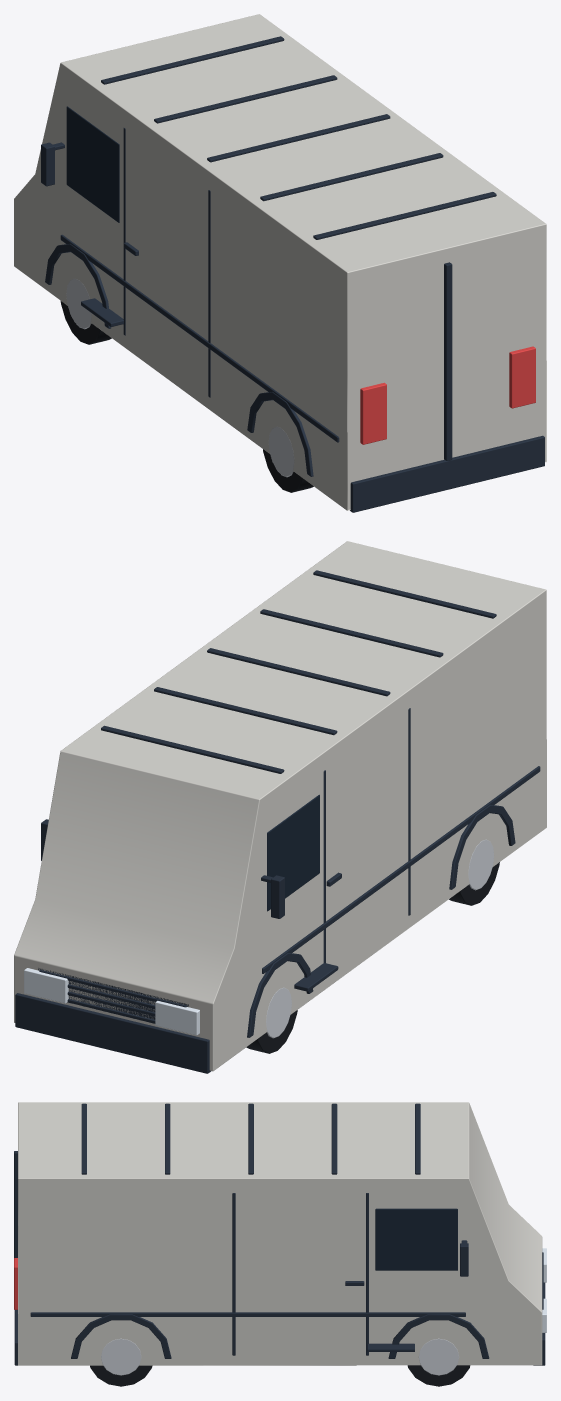
The model's file is veh_truck_panel_01.glb.
3 renders of one model, top to bottom at view 1: azimuth 30°, elevation 25°; view 2: azimuth 150°, elevation 25°; view 3: azimuth 270°, elevation 25°, orthographic. The views are drawn at different scales.
Parts seen in each view (by area): view 1: VEH_TRUCK_PANEL_01_ROOT; view 2: VEH_TRUCK_PANEL_01_ROOT; view 3: VEH_TRUCK_PANEL_01_ROOT.
Part boxes in pixels (left/top/right/bottom): VEH_TRUCK_PANEL_01_ROOT: left=14, top=14, right=546, bottom=512; VEH_TRUCK_PANEL_01_ROOT: left=14, top=541, right=546, bottom=1073; VEH_TRUCK_PANEL_01_ROOT: left=14, top=1102, right=546, bottom=1386.
Size of what is drawn, in the model's own units: 2.73 by 2.93 by 6.71.
